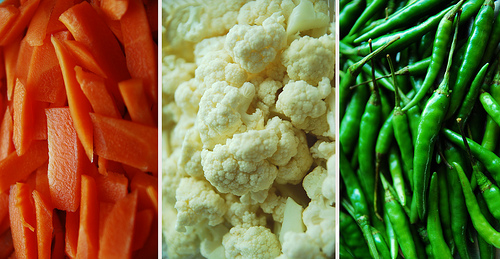cauliflower: (162, 0, 335, 258)
